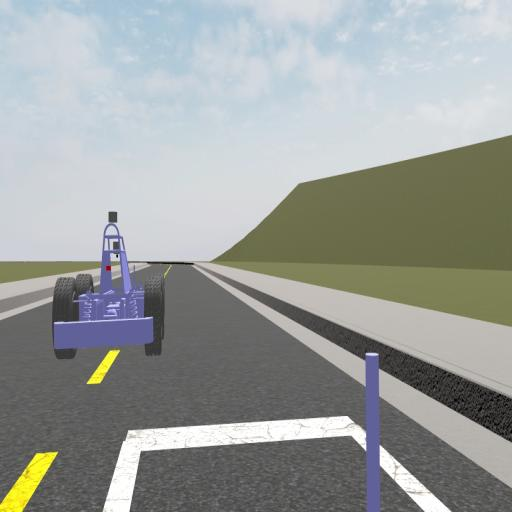ERP-42: (52, 211, 166, 360)
